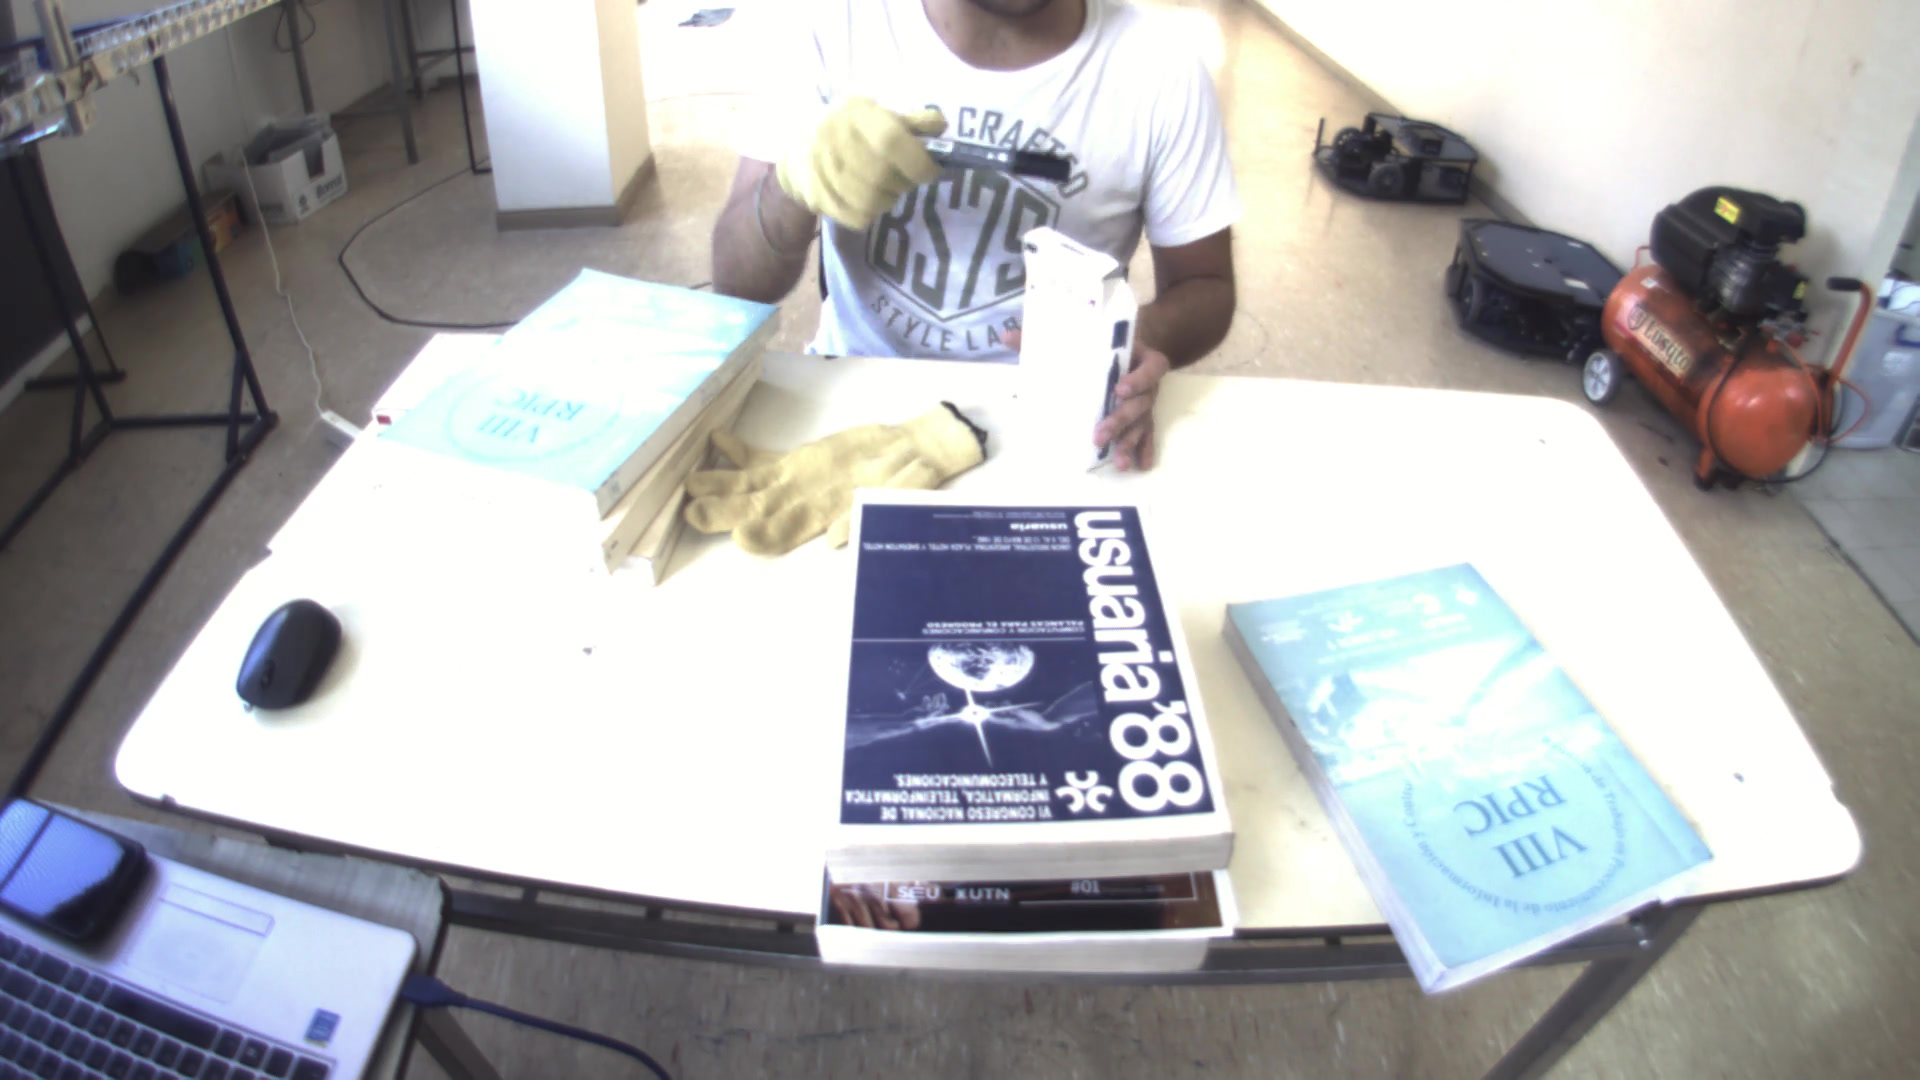hand: (782, 86, 951, 224), (1088, 342, 1182, 476)
